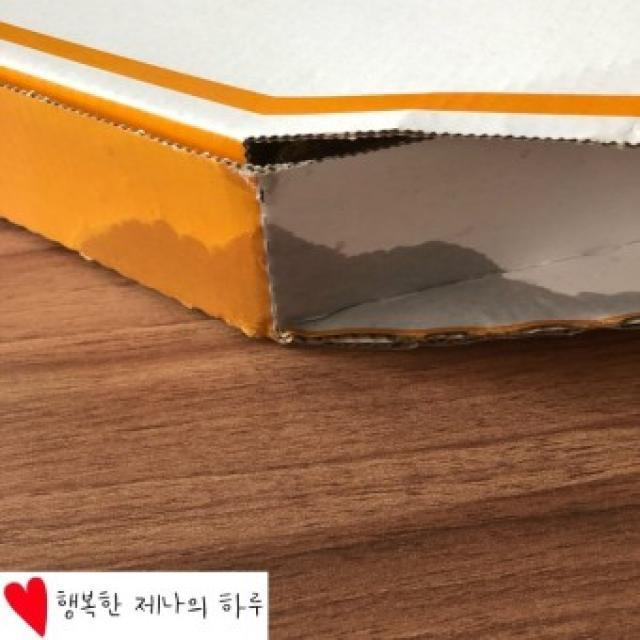wet: (35, 203, 640, 356)
